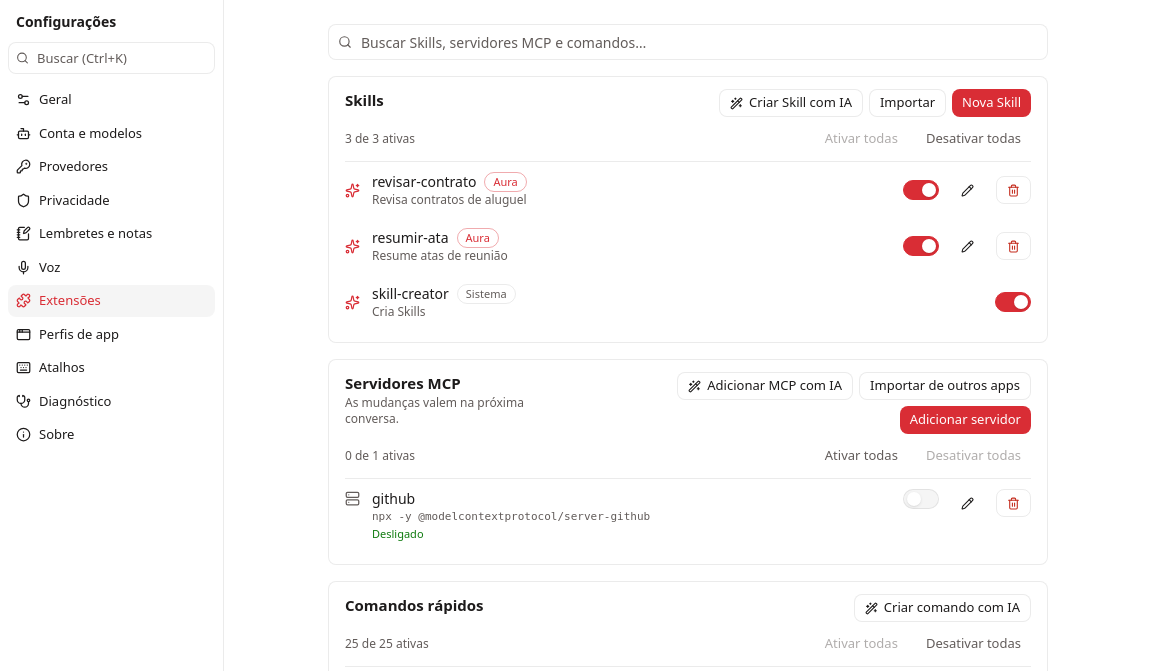
Extensions (017) › edits an MCP server saved without its secret and turns it on when the secret is typed
The width and height of the screenshot is (1152, 671).
Later steps or results of the test are not shown.
Check: the list item "resumir-ata" is shown, box x1=345 y1=218 x2=1031 y2=274
Click the button named "Editar github".
click(968, 503)  # box x1=951 y1=489 x2=984 y2=517
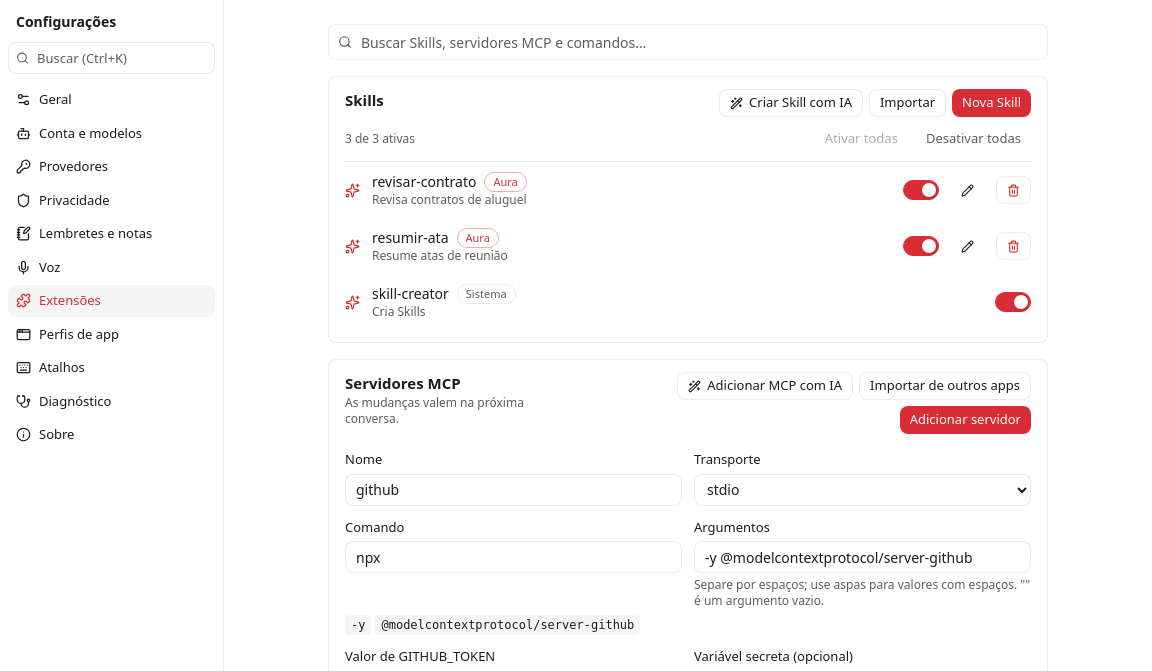
Check: the field labelled "Comando" holds "npx", box x1=345 y1=541 x2=682 y2=573
